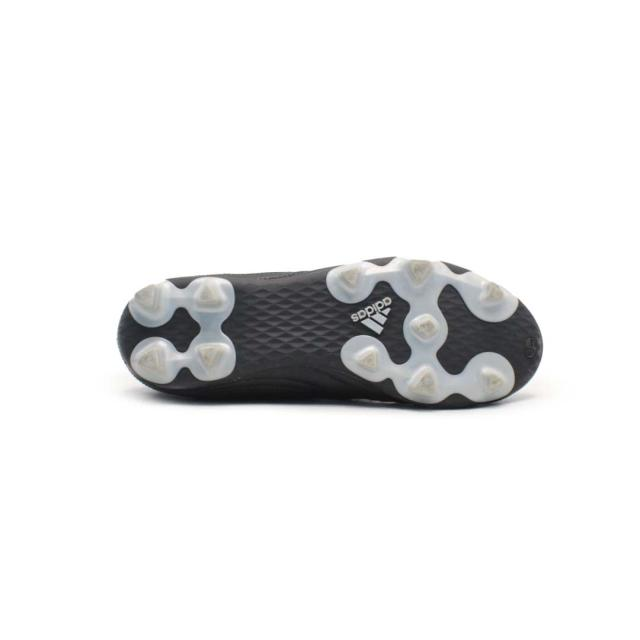outersole: (116, 258, 542, 408)
